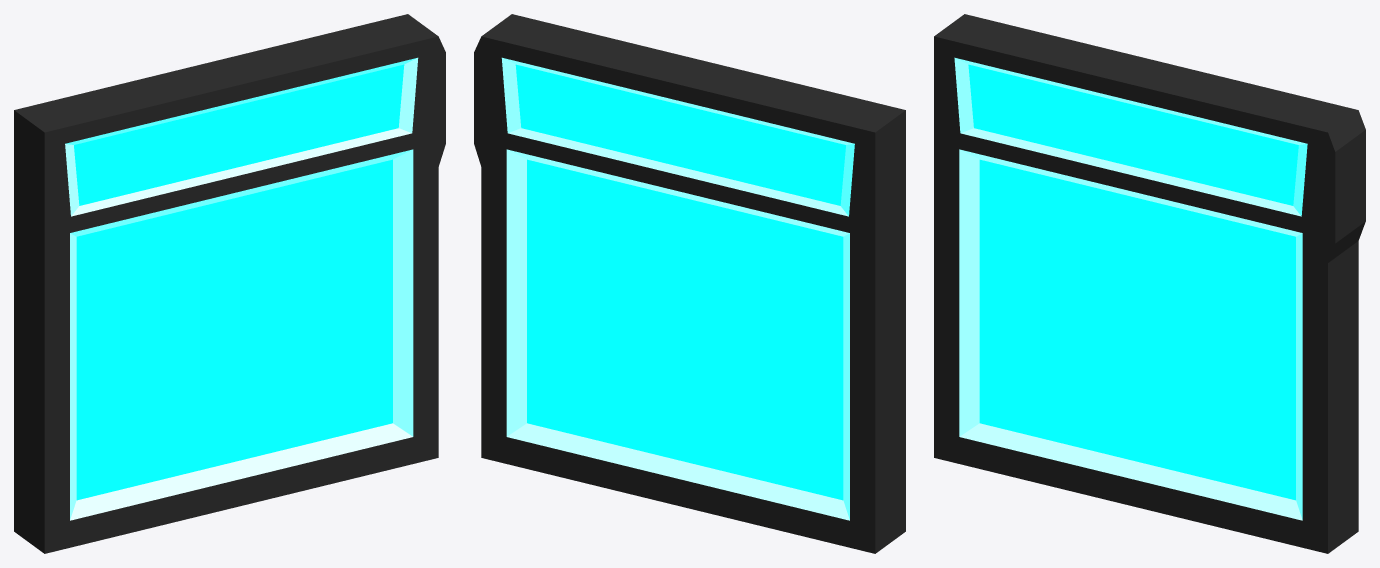
File: Cartucho Ultra Neon.fbx
The picture shows the model from 3 angles, left to right: view 1: azimuth 30°, elevation 25°; view 2: azimuth 150°, elevation 25°; view 3: azimuth 330°, elevation 25°; orthographic projection.
Parts seen in each view (by area): view 1: Cartucho Neon; view 2: Cartucho Neon; view 3: Cartucho Neon.
Part boxes in pixels (x1,y1,x2,y2): Cartucho Neon: (14, 14, 445, 553); Cartucho Neon: (474, 14, 905, 553); Cartucho Neon: (934, 14, 1365, 553).
Bounding box in the file's own units: 129 × 17 × 129.
